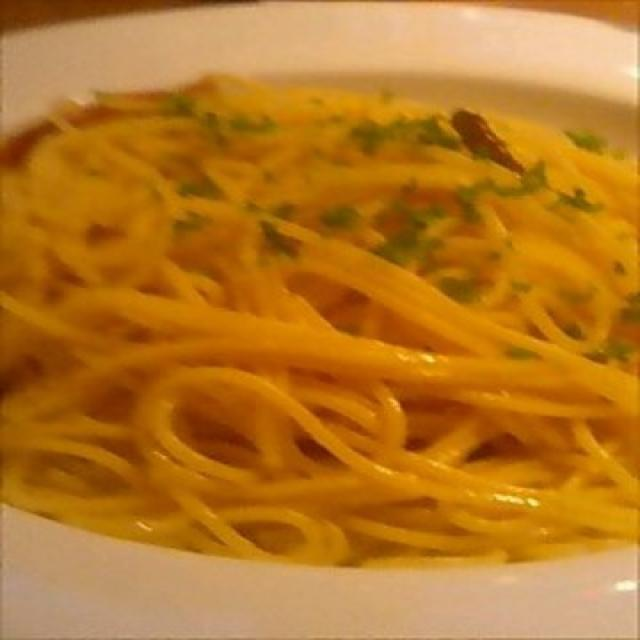Pasta: (2, 105, 640, 559)
